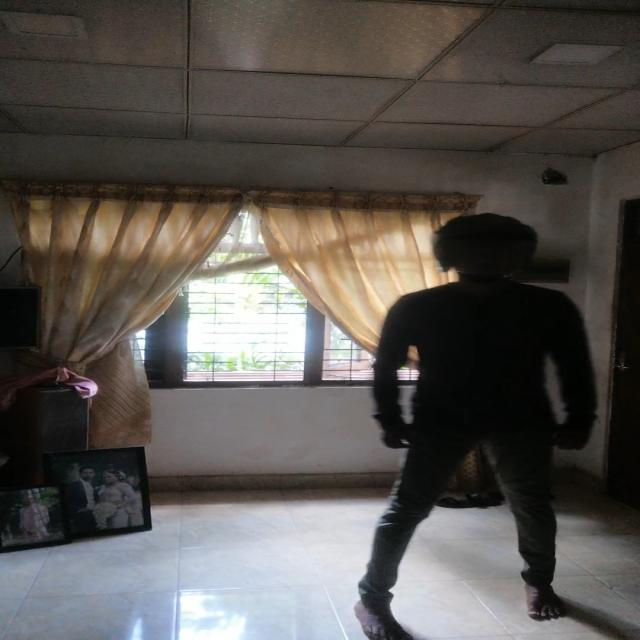Helmet_Wearer: (416, 212, 538, 289)
Person: (373, 212, 624, 628)
